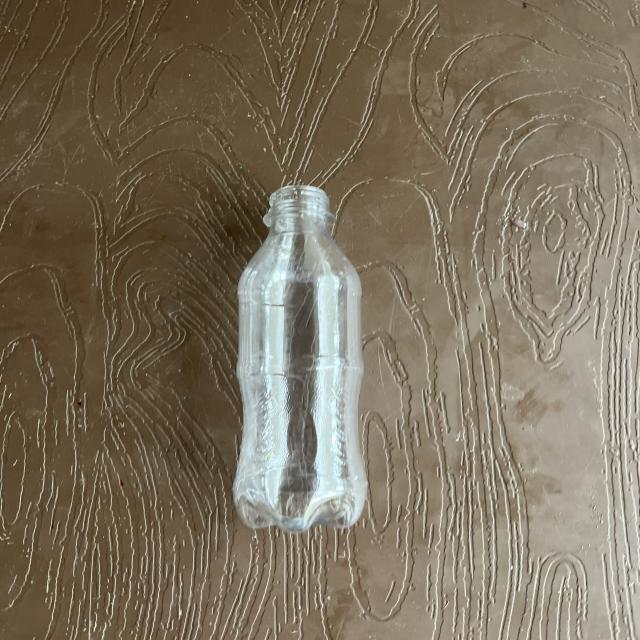PET_ClearBottle: (216, 181, 446, 534)
